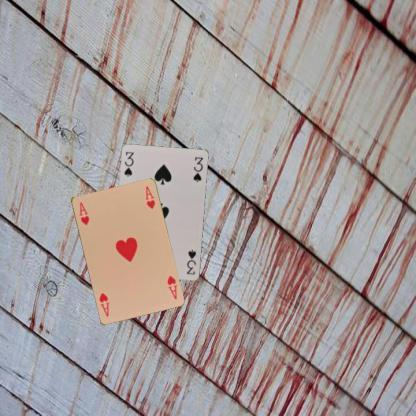3s: (184, 247, 198, 276), (122, 149, 136, 178)
Ah: (76, 199, 90, 226), (164, 273, 178, 300)
